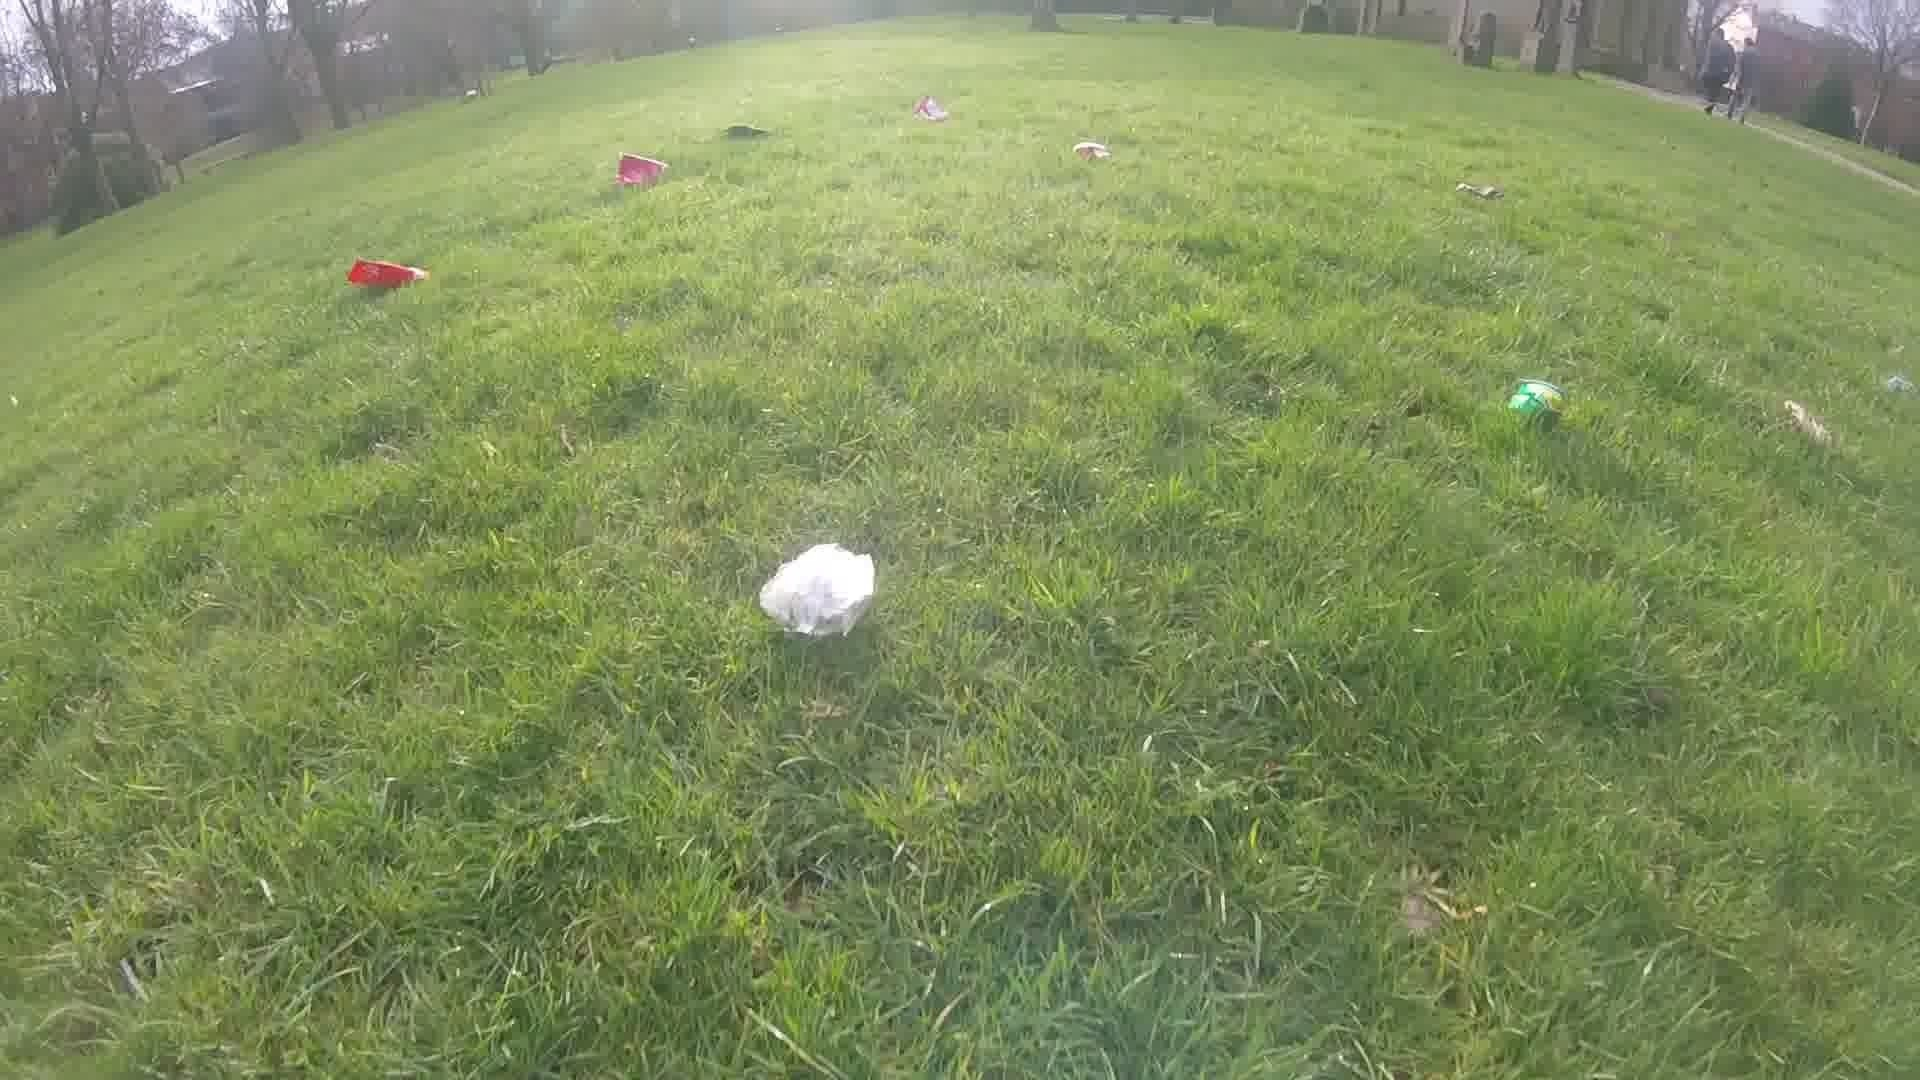litter: (764, 545, 874, 644), (1785, 394, 1840, 448), (1513, 384, 1571, 429), (615, 152, 666, 183), (342, 261, 425, 278), (1073, 144, 1117, 165), (1466, 181, 1501, 203), (721, 127, 769, 142), (911, 104, 949, 121), (1892, 381, 1917, 396)
